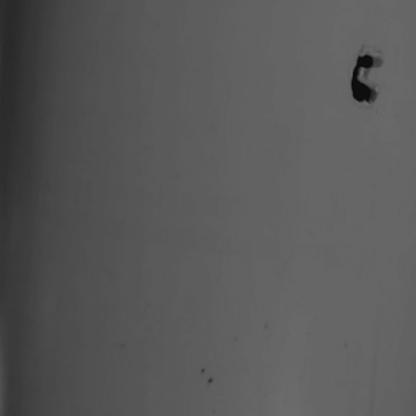kongdong: (342, 41, 394, 114)
